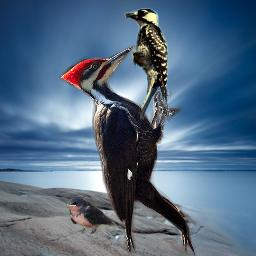Swallow: (65, 196, 115, 234)
Woodpecker: (59, 45, 196, 256), (123, 8, 170, 121)
